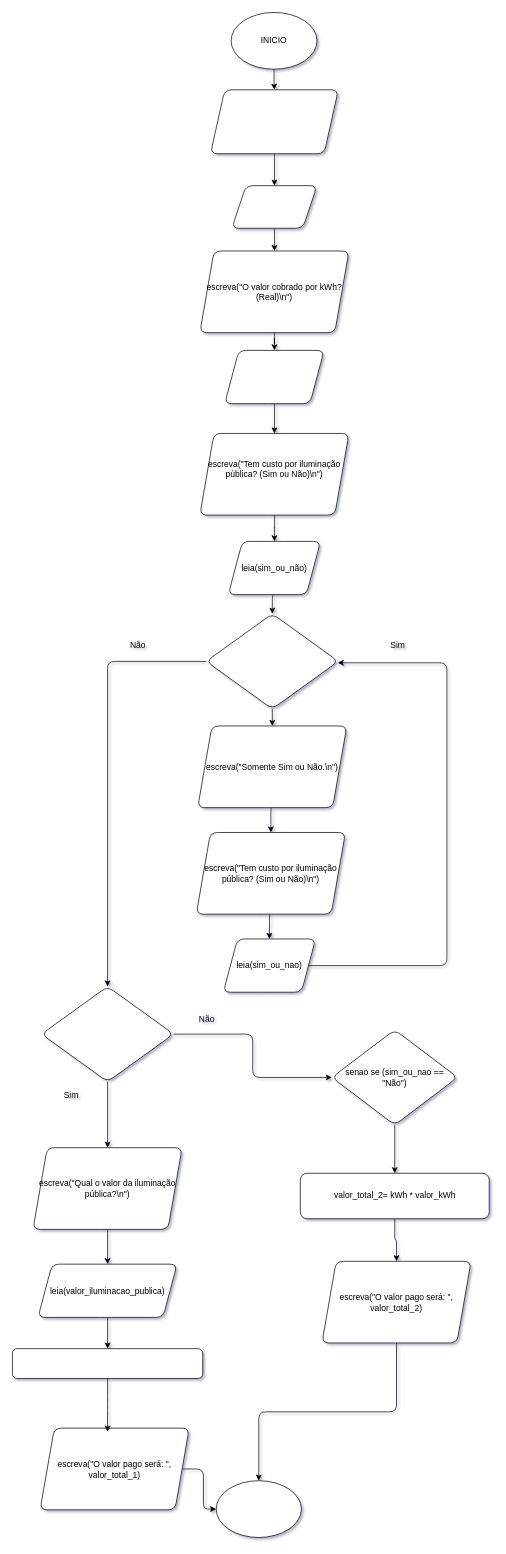
This 506x1554 diagram has some shape labels left out. Each missing label, with the centre of its shape:
enquanto (sim_ou_nao != "Sim" e sim_ou_nao != "Não"): pixel 272 661
escreva("O consumo de energia elétrica em kWh? (Inteiro)\n"): pixel 274 121
Fim: pixel 258 1509
leia(kWh): pixel 274 206
leia(valor_kWh): pixel 274 377
se (sim_ou_nao == "Sim"): pixel 107 1034
valor_total_1= kWh * valor_kWh + valor_iluminacao_publica: pixel 107 1363
